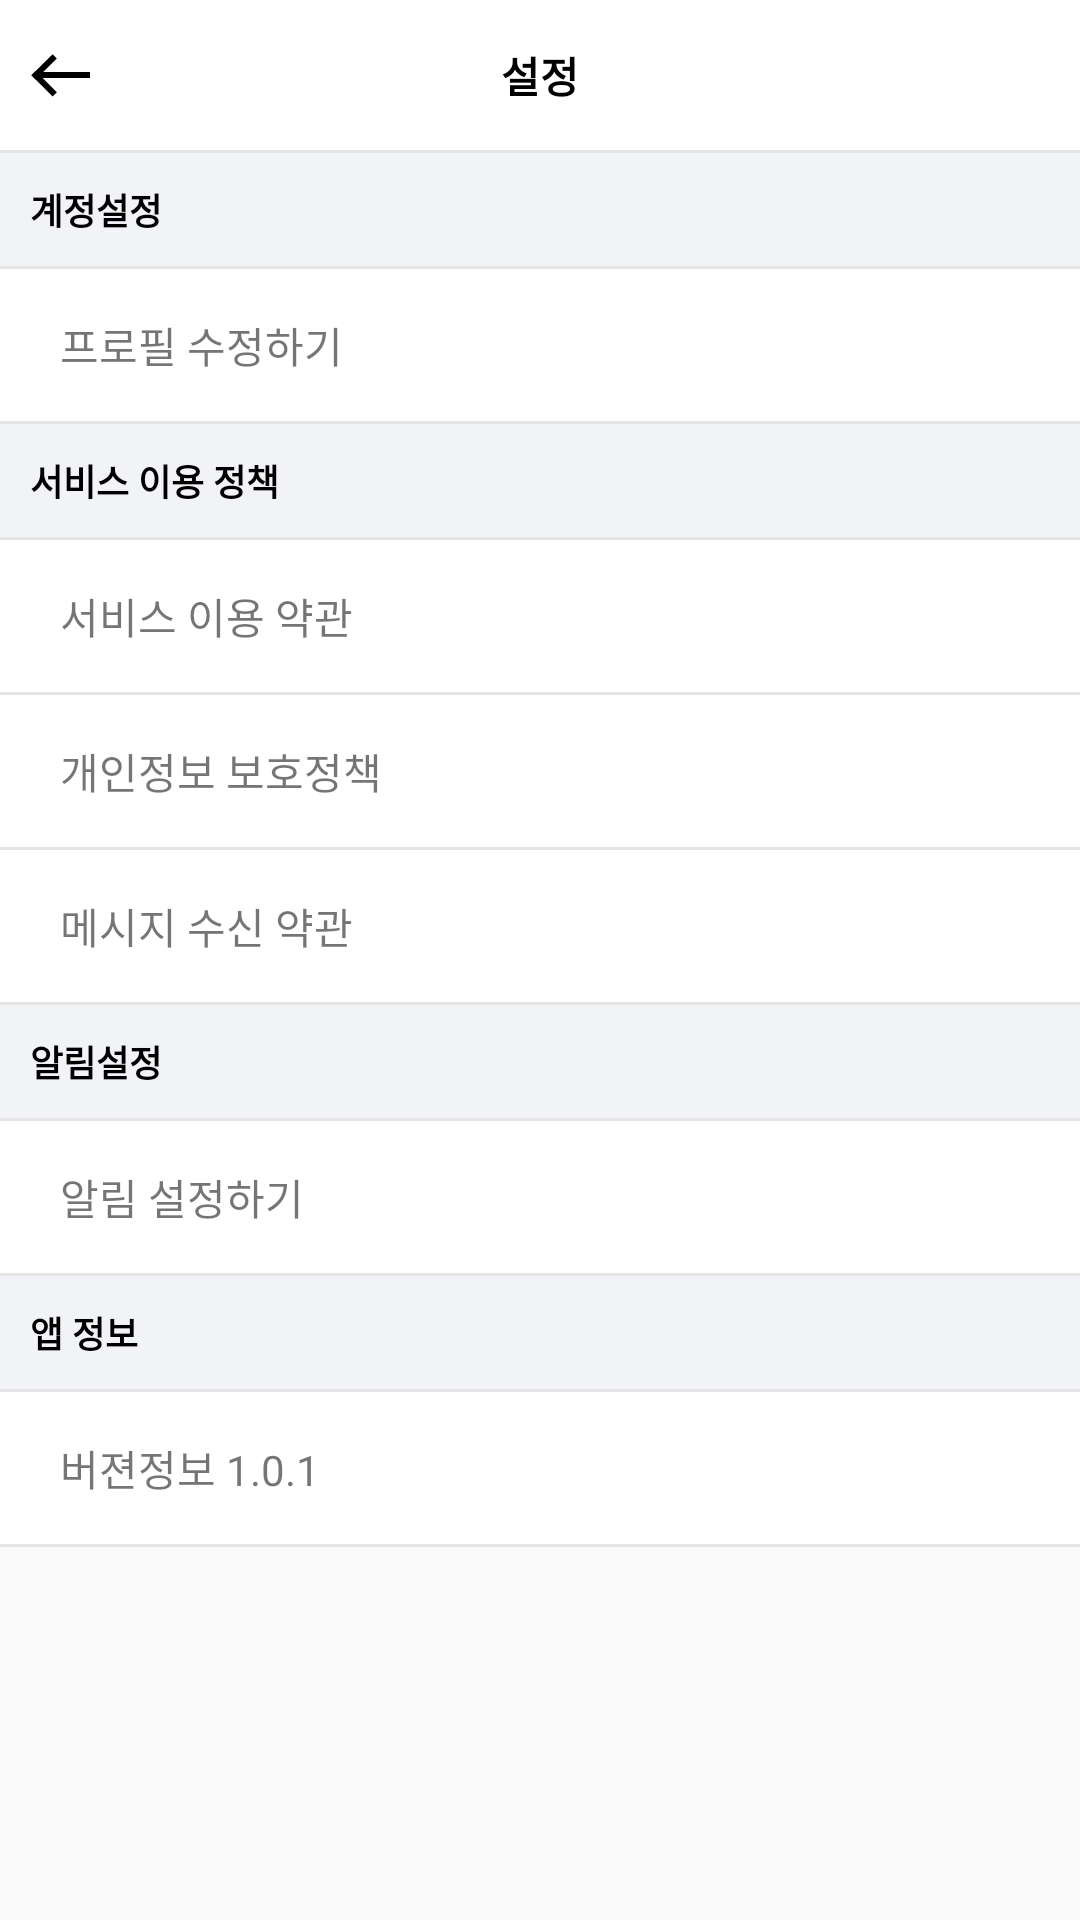

Screen size 1080*1920. Icon name, then its center in pixels as (x,y):
back: (60,75)
